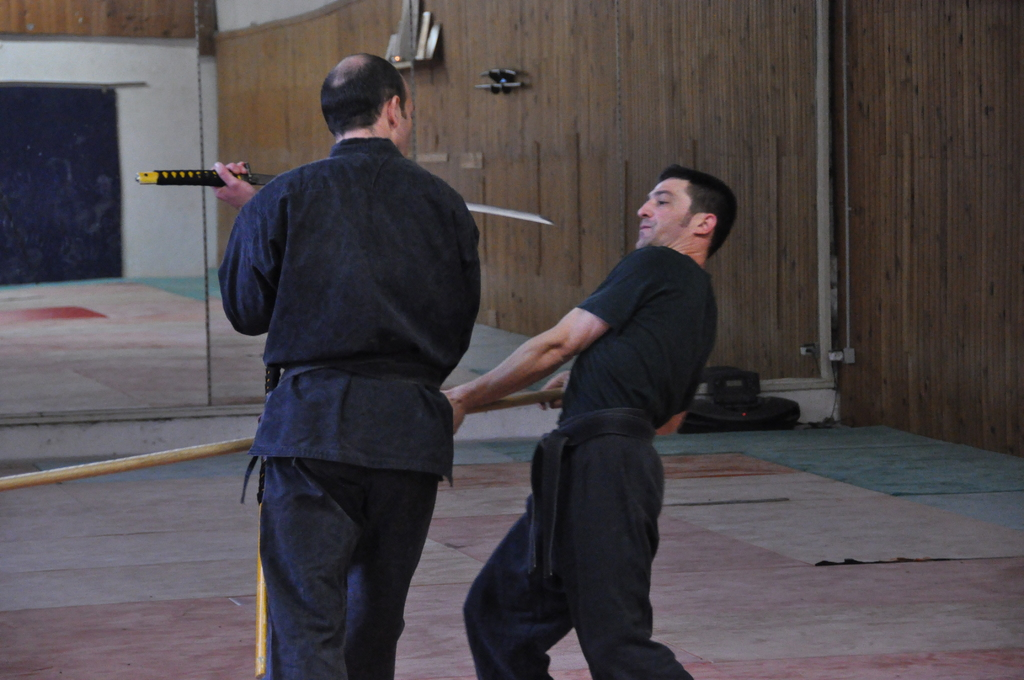Person: (210, 51, 481, 680), (439, 163, 737, 679)
